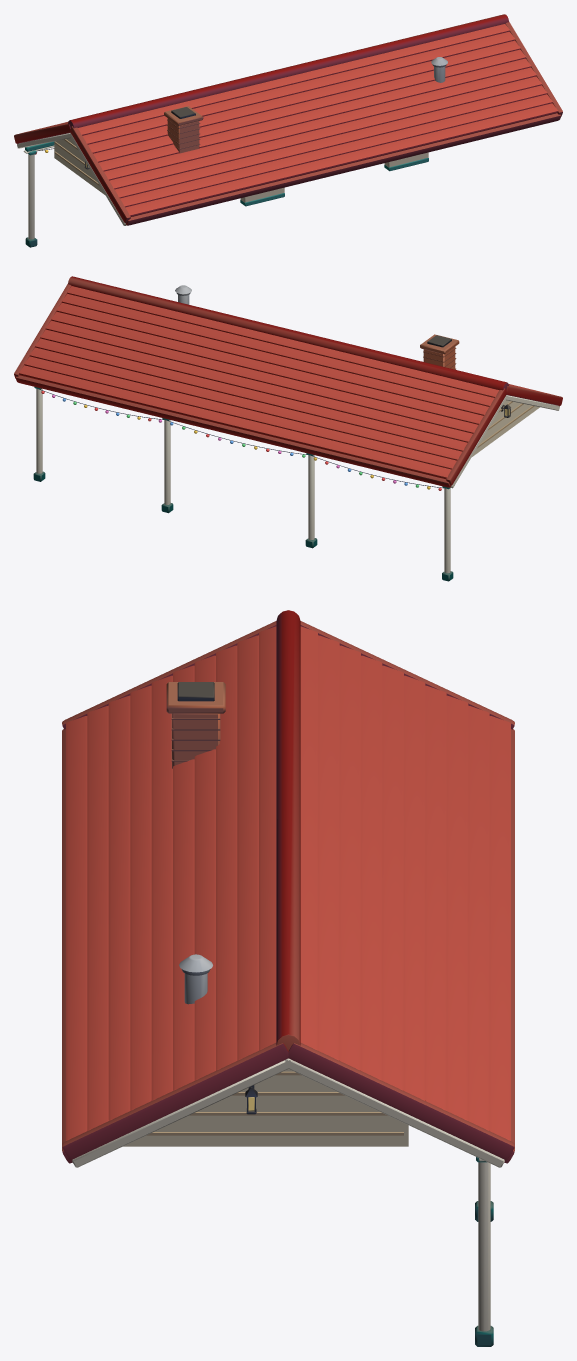
The model's file is RoomRoofV2.fbx.
3 renders of one model, top to bottom at view 1: azimuth 30°, elevation 25°; view 2: azimuth 150°, elevation 25°; view 3: azimuth 270°, elevation 25°, orthographic. The views are drawn at different scales.
Parts seen in each view (by area): view 1: SM_Bld_RoomRoofV2_Roof, SM_Bld_RoomRoofV2_Trim, SM_Bld_RoomRoofV2_Walls; view 2: SM_Bld_RoomRoofV2_Roof, SM_Bld_RoomRoofV2_Trim, SM_Bld_RoomRoofV2_Walls, SM_Bld_RoomRoofV2_Glow; view 3: SM_Bld_RoomRoofV2_Roof, SM_Bld_RoomRoofV2_Walls, SM_Bld_RoomRoofV2_Trim.
Part boxes in pixels (x1,y1,x2,y2): SM_Bld_RoomRoofV2_Roof: [14, 14, 562, 225]; SM_Bld_RoomRoofV2_Trim: [17, 133, 428, 247]; SM_Bld_RoomRoofV2_Walls: [54, 138, 428, 202]; SM_Bld_RoomRoofV2_Roof: [14, 276, 562, 487]; SM_Bld_RoomRoofV2_Trim: [33, 387, 559, 581]; SM_Bld_RoomRoofV2_Walls: [472, 400, 539, 456]; SM_Bld_RoomRoofV2_Glow: [41, 391, 509, 490]; SM_Bld_RoomRoofV2_Roof: [62, 610, 514, 1163]; SM_Bld_RoomRoofV2_Walls: [123, 1069, 408, 1146]; SM_Bld_RoomRoofV2_Trim: [72, 1058, 504, 1346].
Size of the model in its own units: 54.6 by 19.95 by 24.52.
